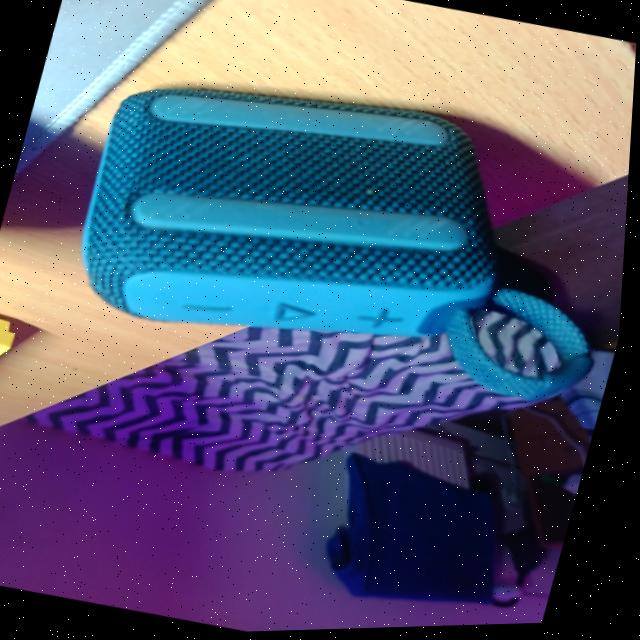column JBL: (85, 89, 596, 403)
